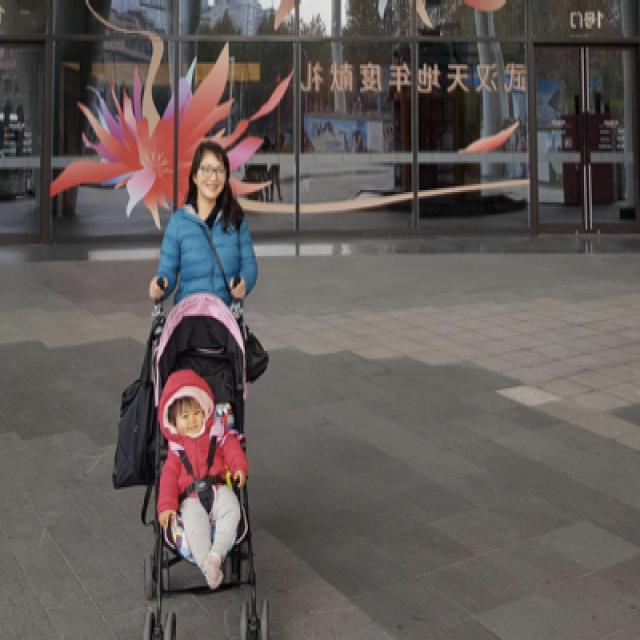no_mask: (198, 155, 228, 192), (179, 394, 205, 432)
